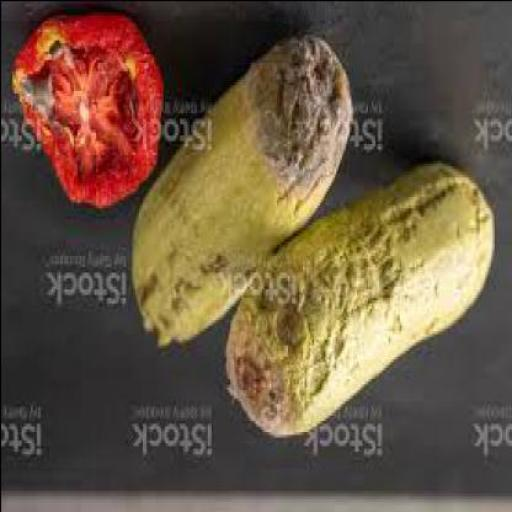biodegradable: (226, 162, 498, 440), (132, 33, 356, 350), (13, 11, 165, 211)
